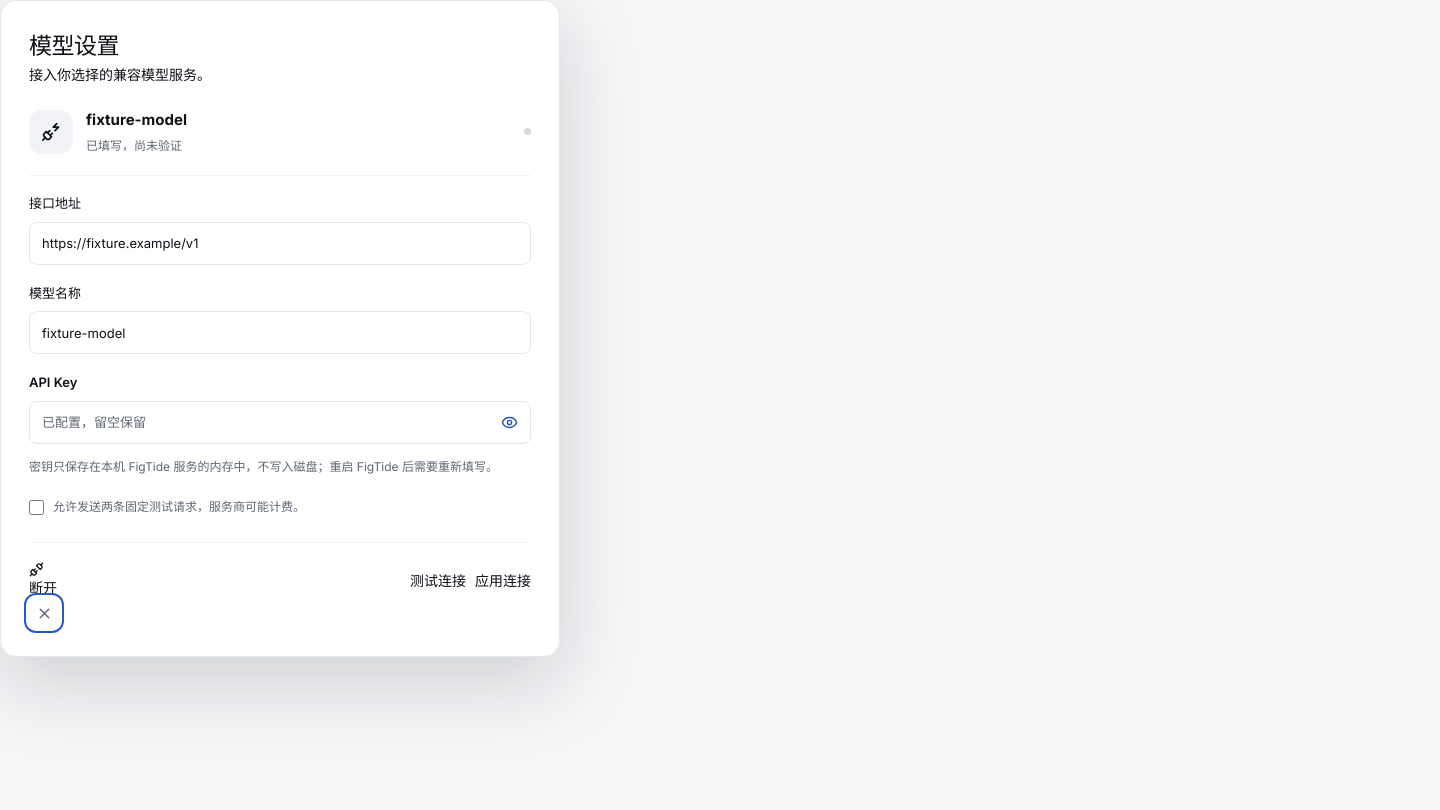
Scenario: shows real authentication errors without changing the active connection and supports disconnect
Expected: the field showing "https://fixture.example/v1" is shown, top-left (29, 222), bottom-right (531, 264)
What coordinates should you click on to do the following:
click the checkbox
I would click on:
 (36, 507)
Its box is top-left (29, 500), bottom-right (44, 515).
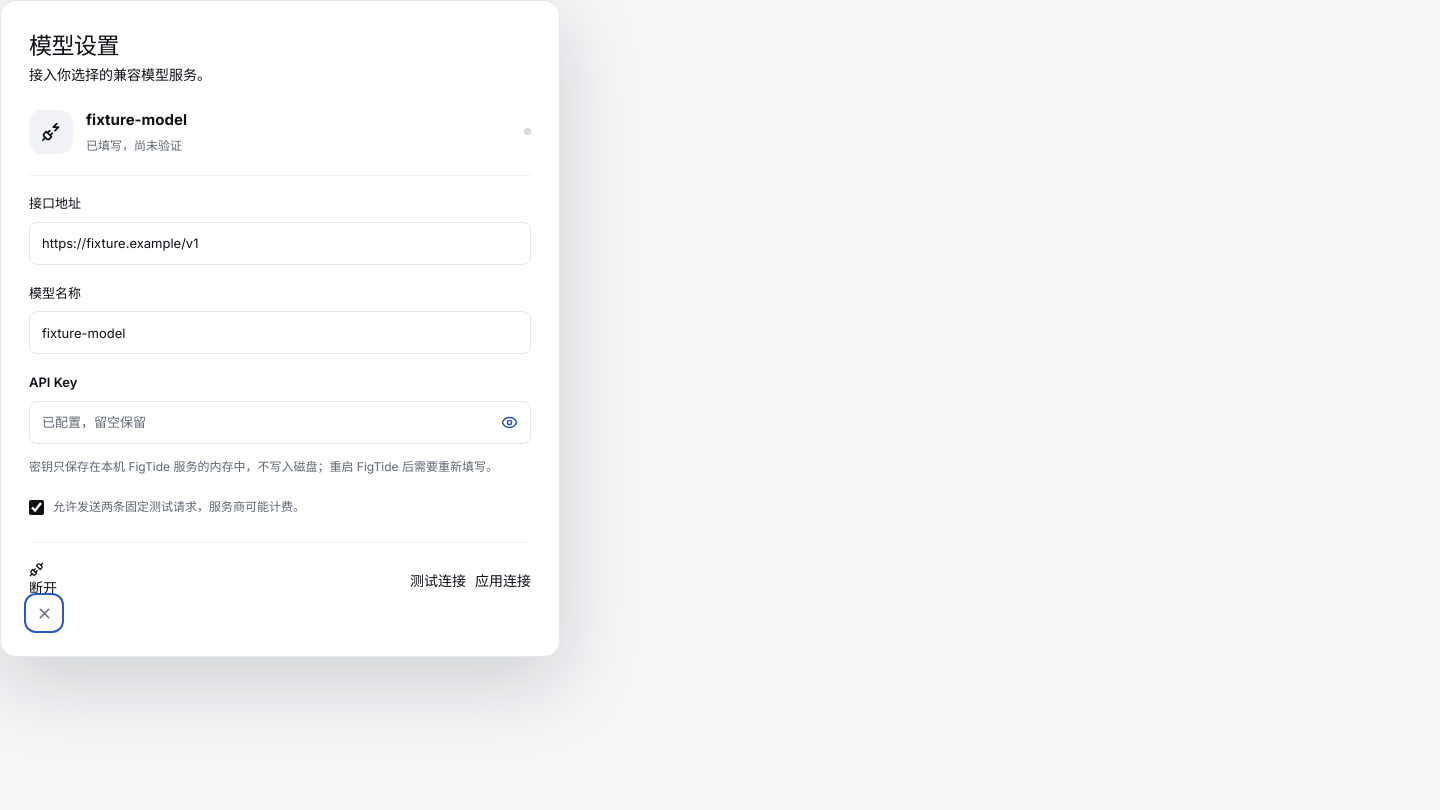
What coordinates should you click on to do the following:
click the button "测试连接"
I would click on:
 (438, 580)
Its box is top-left (410, 570), bottom-right (466, 591).
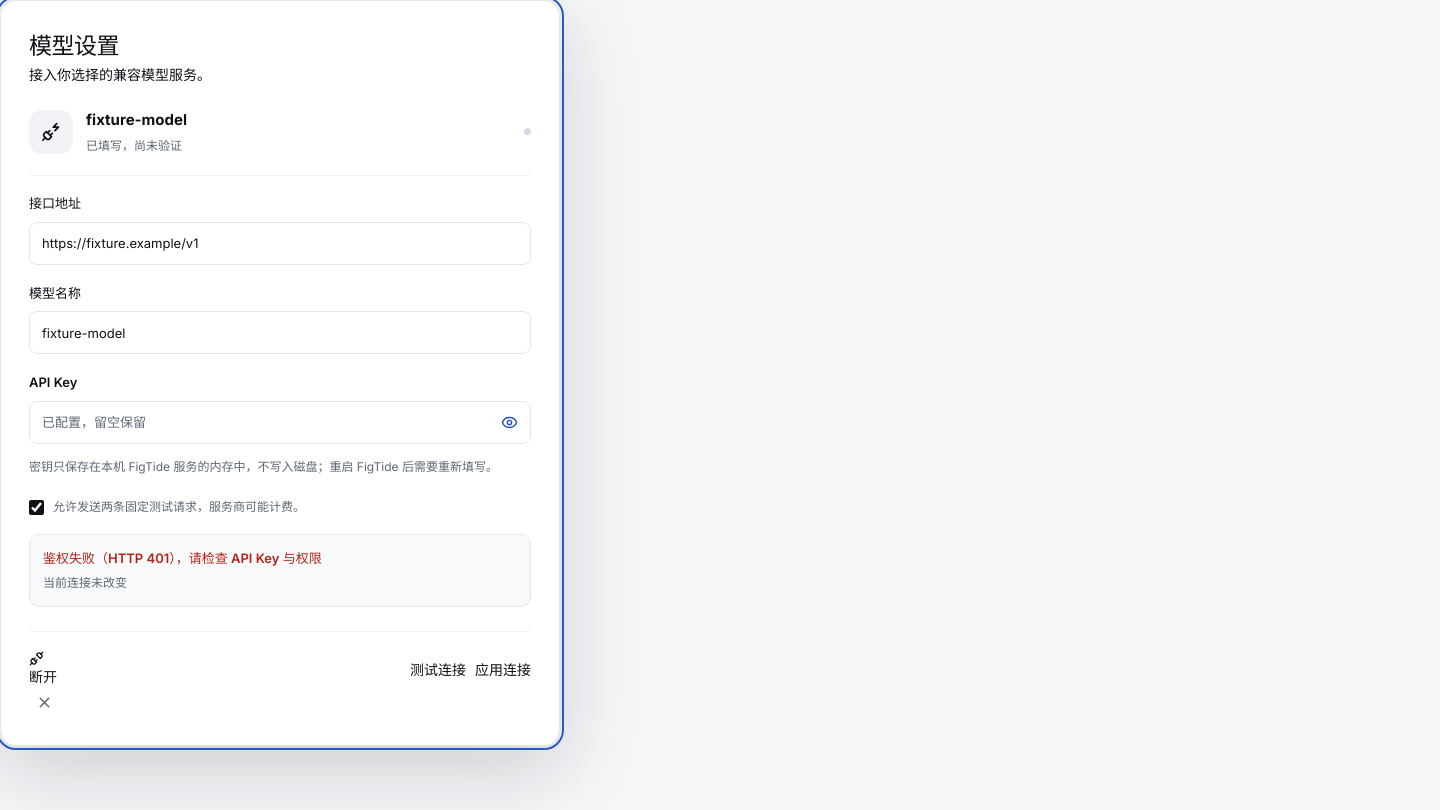
Result: the text "鉴权失败（HTTP 401），请检查 API Key 与权限" is shown at top-left (43, 548), bottom-right (322, 570)
What coordinates should you click on to do the following:
click the button "断开"
I would click on:
 (43, 669)
Its box is top-left (29, 651), bottom-right (57, 687).
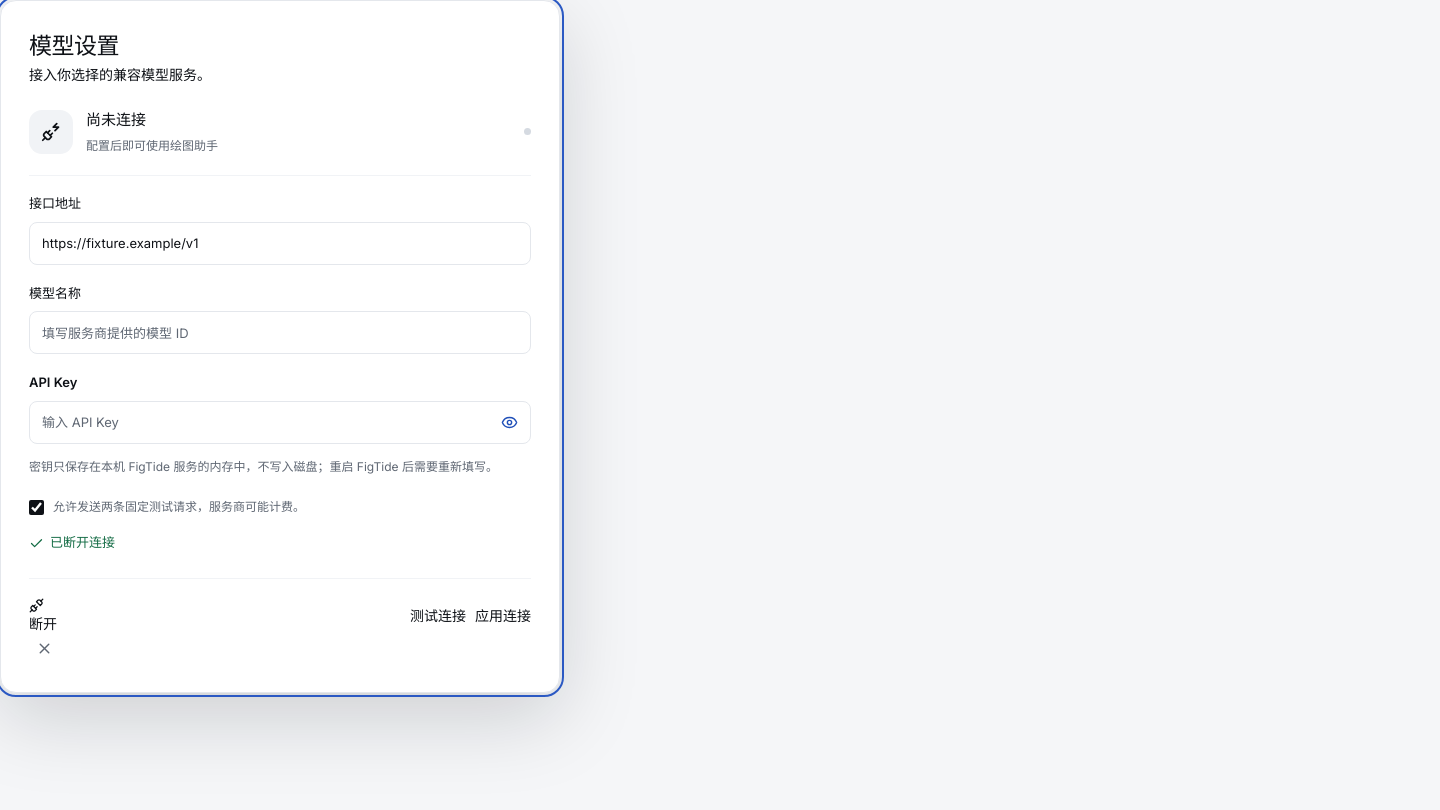
Result: the text "已断开连接" is shown at top-left (29, 534), bottom-right (115, 551)
Result: the button "断开" is disabled at top-left (29, 598), bottom-right (57, 634)
